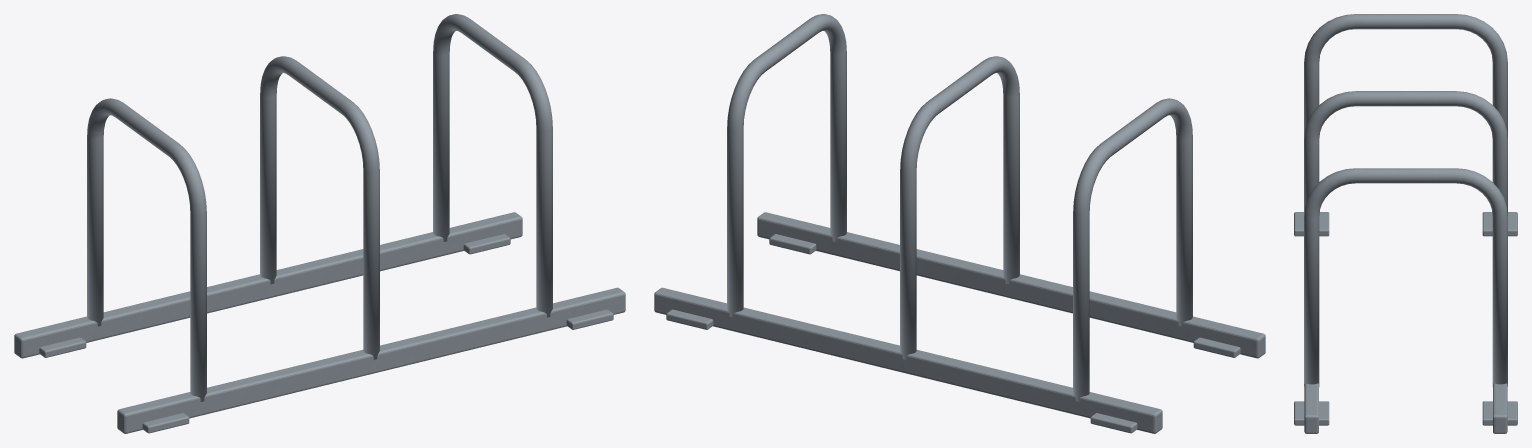
Rendered from bike-rack.glb.
3 renders of one model, left to right at view 1: azimuth 30°, elevation 25°; view 2: azimuth 150°, elevation 25°; view 3: azimuth 270°, elevation 25°, orthographic. The views are drawn at different scales.
Visible parts, largest first — view 1: Rack base rail, Rack base rail.001, Inverted U constant-frame bicycle support, Inverted U constant-frame bicycle support.001, Inverted U constant-frame bicycle support.002, Anchor foot plate, Anchor foot plate.001, Anchor foot plate.002, Anchor foot plate.003; view 2: Rack base rail.001, Rack base rail, Inverted U constant-frame bicycle support, Inverted U constant-frame bicycle support.001, Inverted U constant-frame bicycle support.002, Anchor foot plate.001, Anchor foot plate, Anchor foot plate.003, Anchor foot plate.002; view 3: Inverted U constant-frame bicycle support.002, Inverted U constant-frame bicycle support, Inverted U constant-frame bicycle support.001, Rack base rail, Rack base rail.001, Anchor foot plate.002, Anchor foot plate.003, Anchor foot plate, Anchor foot plate.001.
Part boxes in pixels (x1=…): Rack base rail: x1=117, y1=287, x2=625, y2=433; Rack base rail.001: x1=14, y1=212, x2=522, y2=358; Inverted U constant-frame bicycle support: x1=87, y1=98, x2=206, y2=401; Inverted U constant-frame bicycle support.001: x1=260, y1=56, x2=379, y2=359; Inverted U constant-frame bicycle support.002: x1=433, y1=14, x2=552, y2=317; Anchor foot plate: x1=142, y1=413, x2=189, y2=433; Anchor foot plate.001: x1=39, y1=337, x2=86, y2=357; Anchor foot plate.002: x1=566, y1=309, x2=613, y2=329; Anchor foot plate.003: x1=463, y1=234, x2=510, y2=254; Rack base rail.001: x1=654, y1=287, x2=1162, y2=433; Rack base rail: x1=757, y1=212, x2=1265, y2=358; Inverted U constant-frame bicycle support: x1=1073, y1=98, x2=1192, y2=401; Inverted U constant-frame bicycle support.001: x1=900, y1=56, x2=1019, y2=359; Inverted U constant-frame bicycle support.002: x1=727, y1=14, x2=846, y2=317; Anchor foot plate.001: x1=1090, y1=413, x2=1137, y2=433; Anchor foot plate: x1=1193, y1=337, x2=1240, y2=357; Anchor foot plate.003: x1=666, y1=309, x2=713, y2=329; Anchor foot plate.002: x1=769, y1=234, x2=816, y2=254; Inverted U constant-frame bicycle support.002: x1=1304, y1=168, x2=1507, y2=386; Inverted U constant-frame bicycle support: x1=1304, y1=14, x2=1507, y2=138; Inverted U constant-frame bicycle support.001: x1=1304, y1=91, x2=1507, y2=215; Rack base rail: x1=1304, y1=383, x2=1318, y2=433; Rack base rail.001: x1=1493, y1=383, x2=1507, y2=433; Anchor foot plate.002: x1=1294, y1=401, x2=1329, y2=425; Anchor foot plate.003: x1=1482, y1=401, x2=1517, y2=425; Anchor foot plate: x1=1294, y1=212, x2=1329, y2=236; Anchor foot plate.001: x1=1482, y1=212, x2=1517, y2=236.
Size of the model in its own units: 1.8 by 0.866 by 0.76.
Materials: 1 (1 with a texture image).
